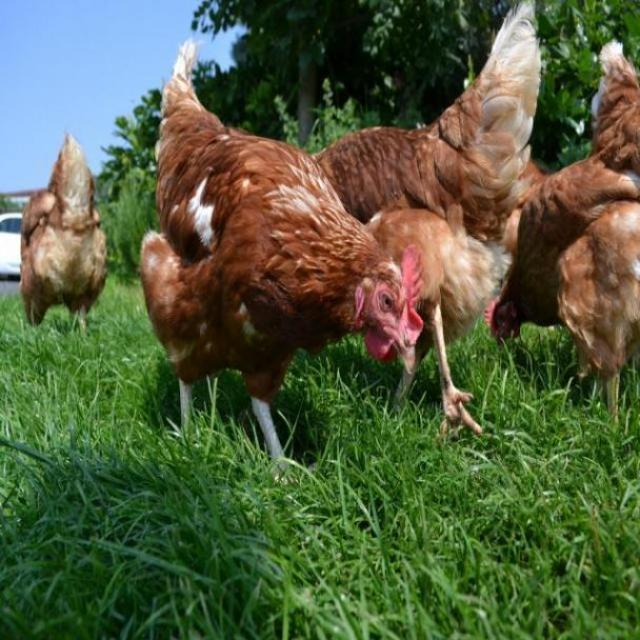Chicken: (141, 54, 430, 491), (309, 0, 536, 457), (474, 35, 640, 457), (16, 126, 110, 357)
